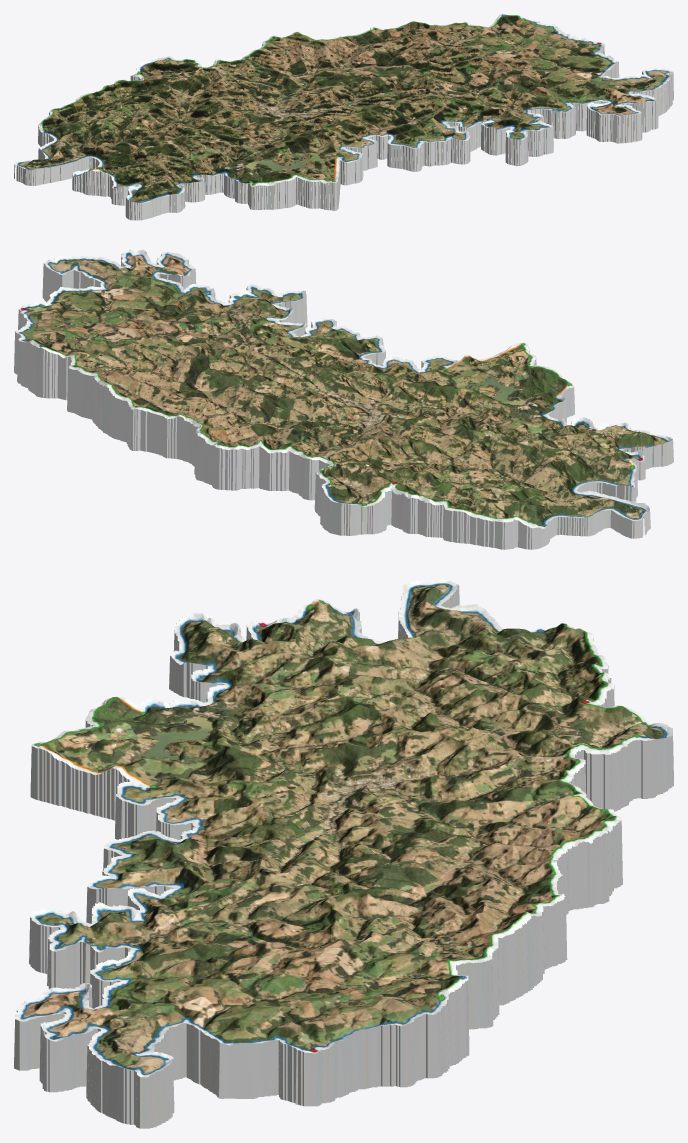
3 renders of one model, top to bottom at view 1: azimuth 30°, elevation 25°; view 2: azimuth 150°, elevation 25°; view 3: azimuth 270°, elevation 25°, orthographic. The views are drawn at different scales.
Size of the model in its own units: 0.9998 by 0.0682 by 0.5346.
Materials: 1 (1 with a texture image).
